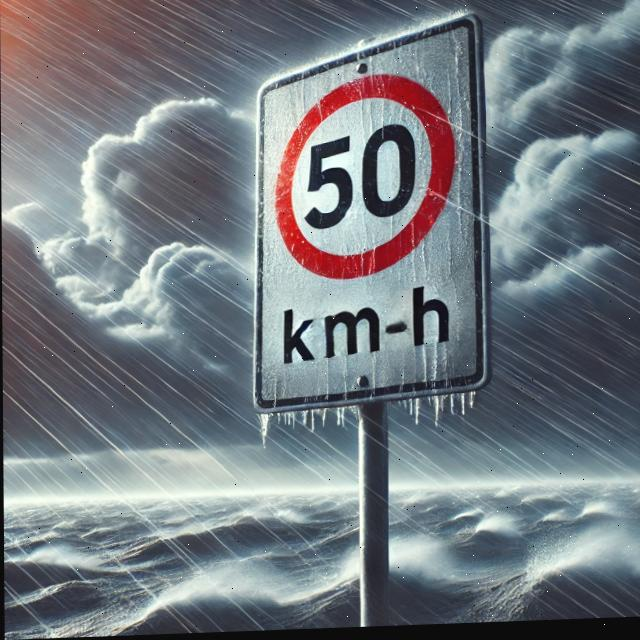Speed limit 50: (274, 73, 458, 286)
